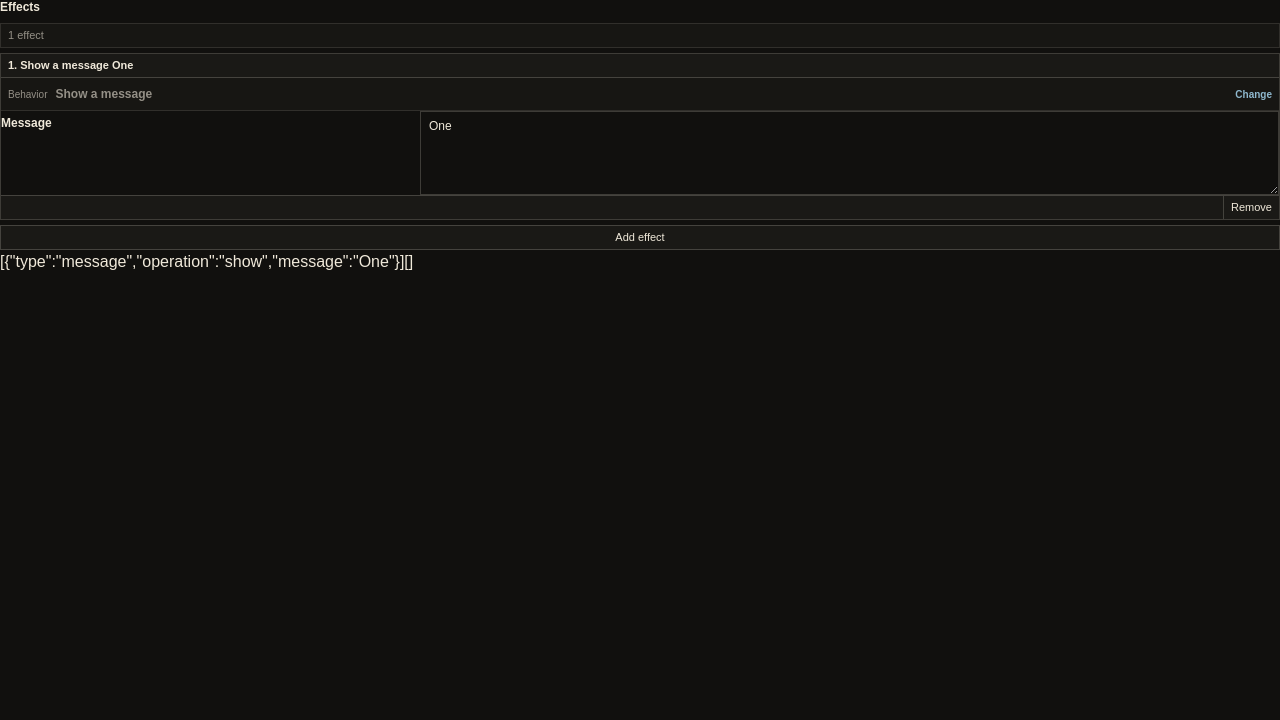
EffectListEditor › does not offer inline groups as child effects
This screenshot has width=1280, height=720.
What coordinates should you click on to do the following:
click the button "Add effect"
I would click on:
 (640, 237)
Its box is top-left (0, 225), bottom-right (1279, 250).
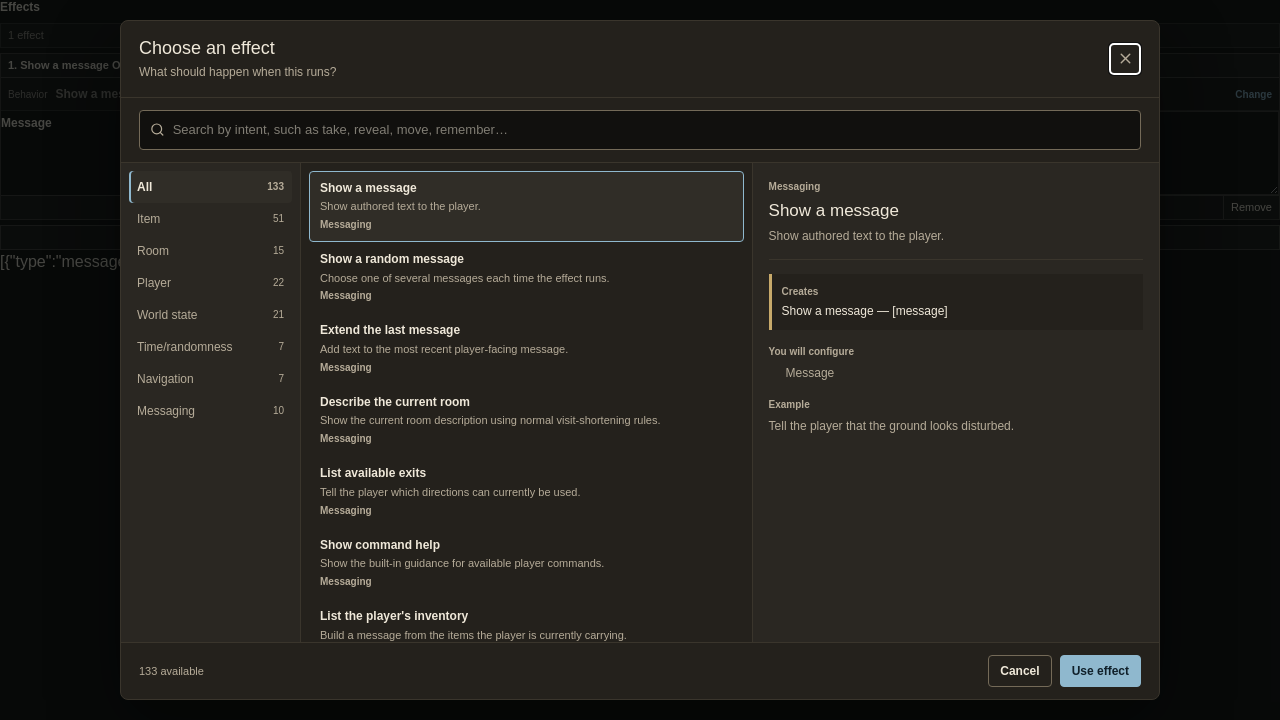
Check: the heading "Choose an effect" is shown, box top-left (139, 38), bottom-right (275, 58)
